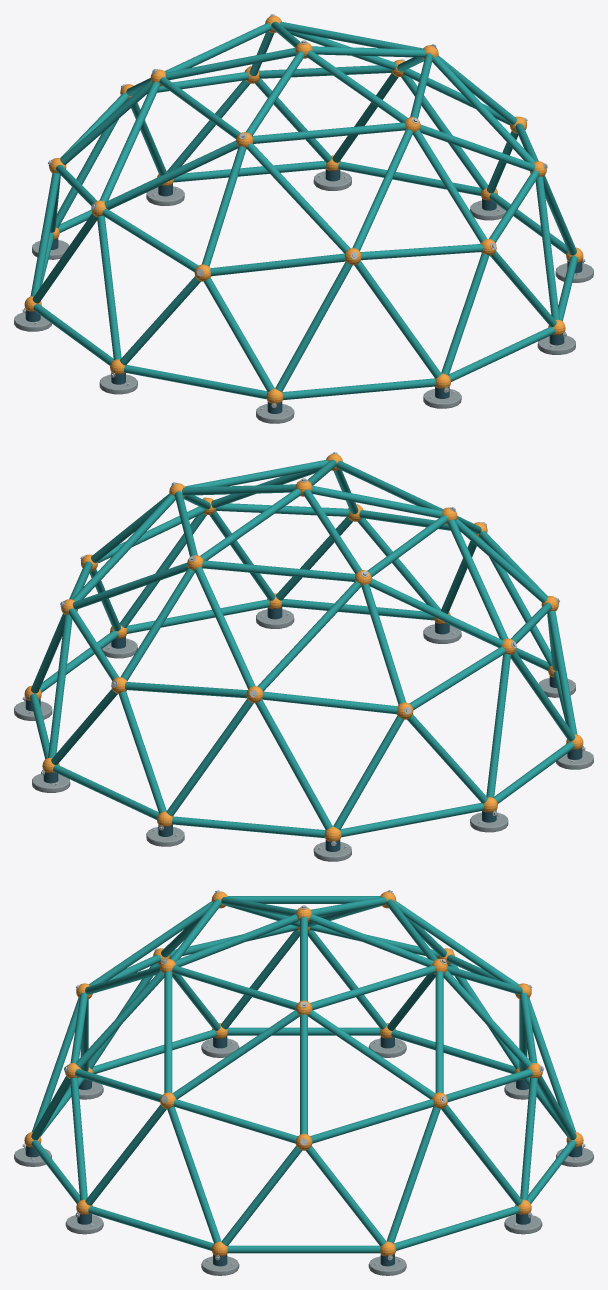
File: city-playground-climbing-dome.glb
3 renders of one model, top to bottom at view 1: azimuth 30°, elevation 25°; view 2: azimuth 150°, elevation 25°; view 3: azimuth 270°, elevation 25°, orthographic. The views are drawn at different scales.
Parts seen in each view (by area): view 1: Assembly | Teal coated climbing tubes, Assembly | Galvanized steel foot hardware, Assembly | Amber protective hub covers, Assembly | Deep petrol powder coat, Assembly | Satin stainless structural hardware; view 2: Assembly | Teal coated climbing tubes, Assembly | Galvanized steel foot hardware, Assembly | Amber protective hub covers, Assembly | Deep petrol powder coat, Assembly | Satin stainless structural hardware; view 3: Assembly | Teal coated climbing tubes, Assembly | Galvanized steel foot hardware, Assembly | Amber protective hub covers, Assembly | Deep petrol powder coat, Assembly | Satin stainless structural hardware.
Part boxes in pixels (left/top/right/bottom): Assembly | Teal coated climbing tubes: left=30, top=21, right=577, bottom=400; Assembly | Galvanized steel foot hardware: left=14, top=171, right=593, bottom=423; Assembly | Amber protective hub covers: left=24, top=16, right=583, bottom=403; Assembly | Deep petrol powder coat: left=25, top=169, right=582, bottom=413; Assembly | Satin stainless structural hardware: left=22, top=14, right=585, bottom=411; Assembly | Teal coated climbing tubes: left=30, top=459, right=577, bottom=838; Assembly | Galvanized steel foot hardware: left=14, top=609, right=593, bottom=861; Assembly | Amber protective hub covers: left=24, top=454, right=583, bottom=841; Assembly | Deep petrol powder coat: left=25, top=607, right=582, bottom=851; Assembly | Satin stainless structural hardware: left=22, top=452, right=585, bottom=849; Assembly | Teal coated climbing tubes: left=31, top=896, right=576, bottom=1253; Assembly | Galvanized steel foot hardware: left=14, top=1038, right=593, bottom=1275; Assembly | Amber protective hub covers: left=24, top=891, right=583, bottom=1256; Assembly | Deep petrol powder coat: left=25, top=1036, right=582, bottom=1266; Assembly | Satin stainless structural hardware: left=22, top=890, right=585, bottom=1265.
Size of the model in its own units: 2.98 by 1.5 by 3.12.
